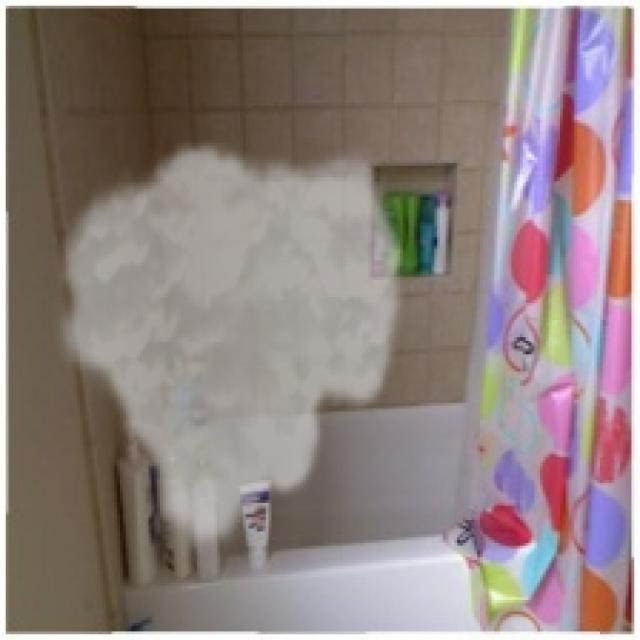Smoke: (49, 137, 412, 554)
